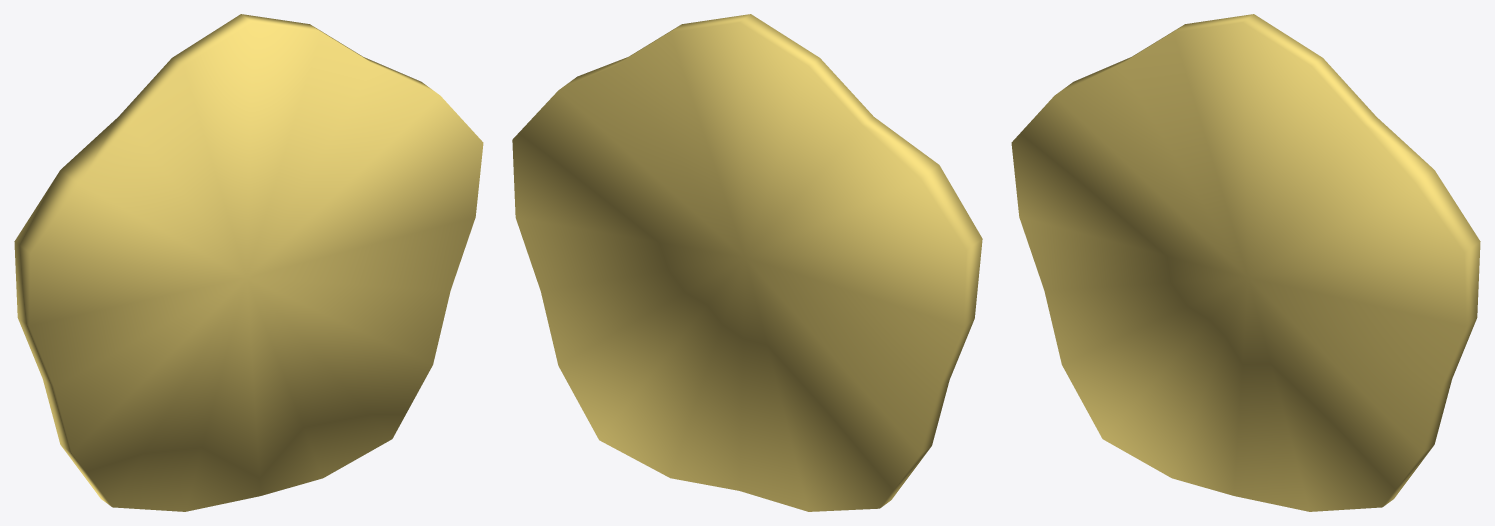
The model's file is Honey.fbx.
3 renders of one model, left to right at view 1: azimuth 30°, elevation 25°; view 2: azimuth 150°, elevation 25°; view 3: azimuth 330°, elevation 25°, orthographic.
Parts seen in each view (by area): view 1: Honey; view 2: Honey; view 3: Honey.
Boxes of the visible parts, x1,y1,x2,y2 form: Honey: (14,14,483,511); Honey: (512,14,982,511); Honey: (1011,14,1480,511).
Size of the model in its own units: 0.913 by 0.908 by 0.07.
